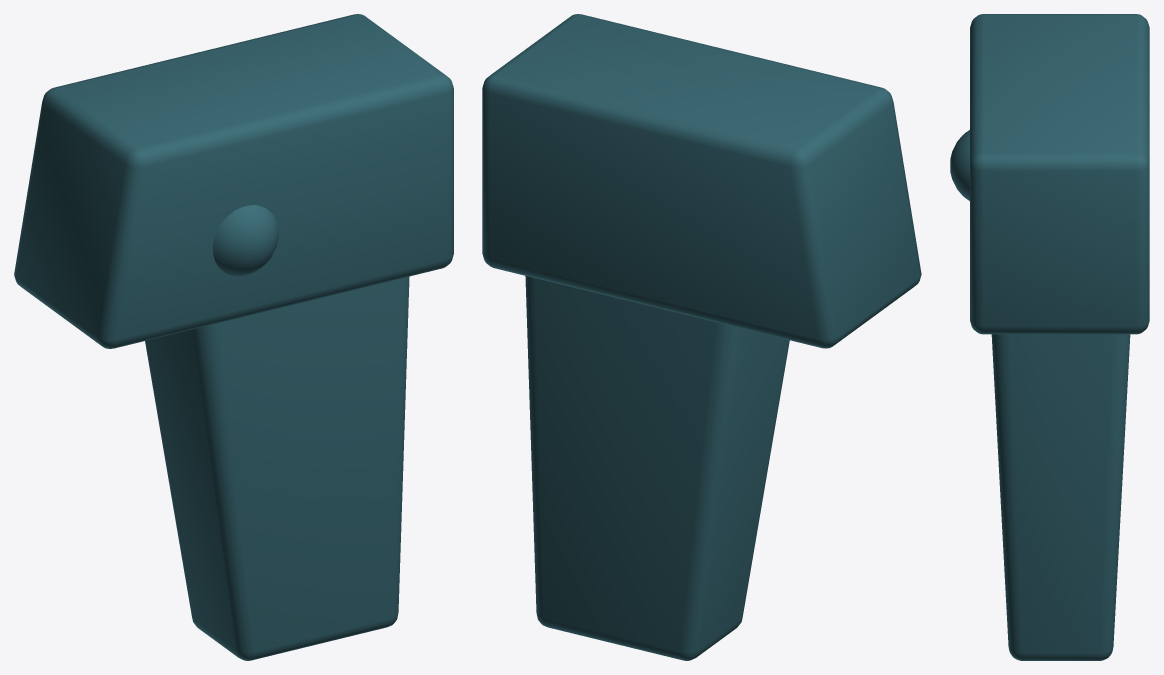
File: borne.fbx
3 renders of one model, left to right at view 1: azimuth 30°, elevation 25°; view 2: azimuth 150°, elevation 25°; view 3: azimuth 270°, elevation 25°, orthographic. The views are drawn at different scales.
Parts seen in each view (by area): view 1: Cube_5, Cube_2, Sphere; view 2: Cube_5, Cube_2; view 3: Cube_5, Cube_2, Sphere.
Boxes of the visible parts, x1,y1,x2,y2 form: Cube_5: (14, 14, 453, 348); Cube_2: (145, 276, 409, 660); Sphere: (213, 205, 278, 276); Cube_5: (482, 14, 921, 348); Cube_2: (525, 276, 789, 660); Cube_5: (970, 14, 1149, 334); Cube_2: (991, 334, 1130, 660); Sphere: (950, 130, 969, 200).
Size of the model in its own units: 219 by 330 by 114.
